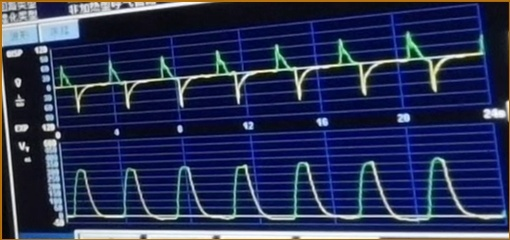Accumulation Flow: (56, 32, 479, 114)
Volume: (69, 154, 493, 227)
